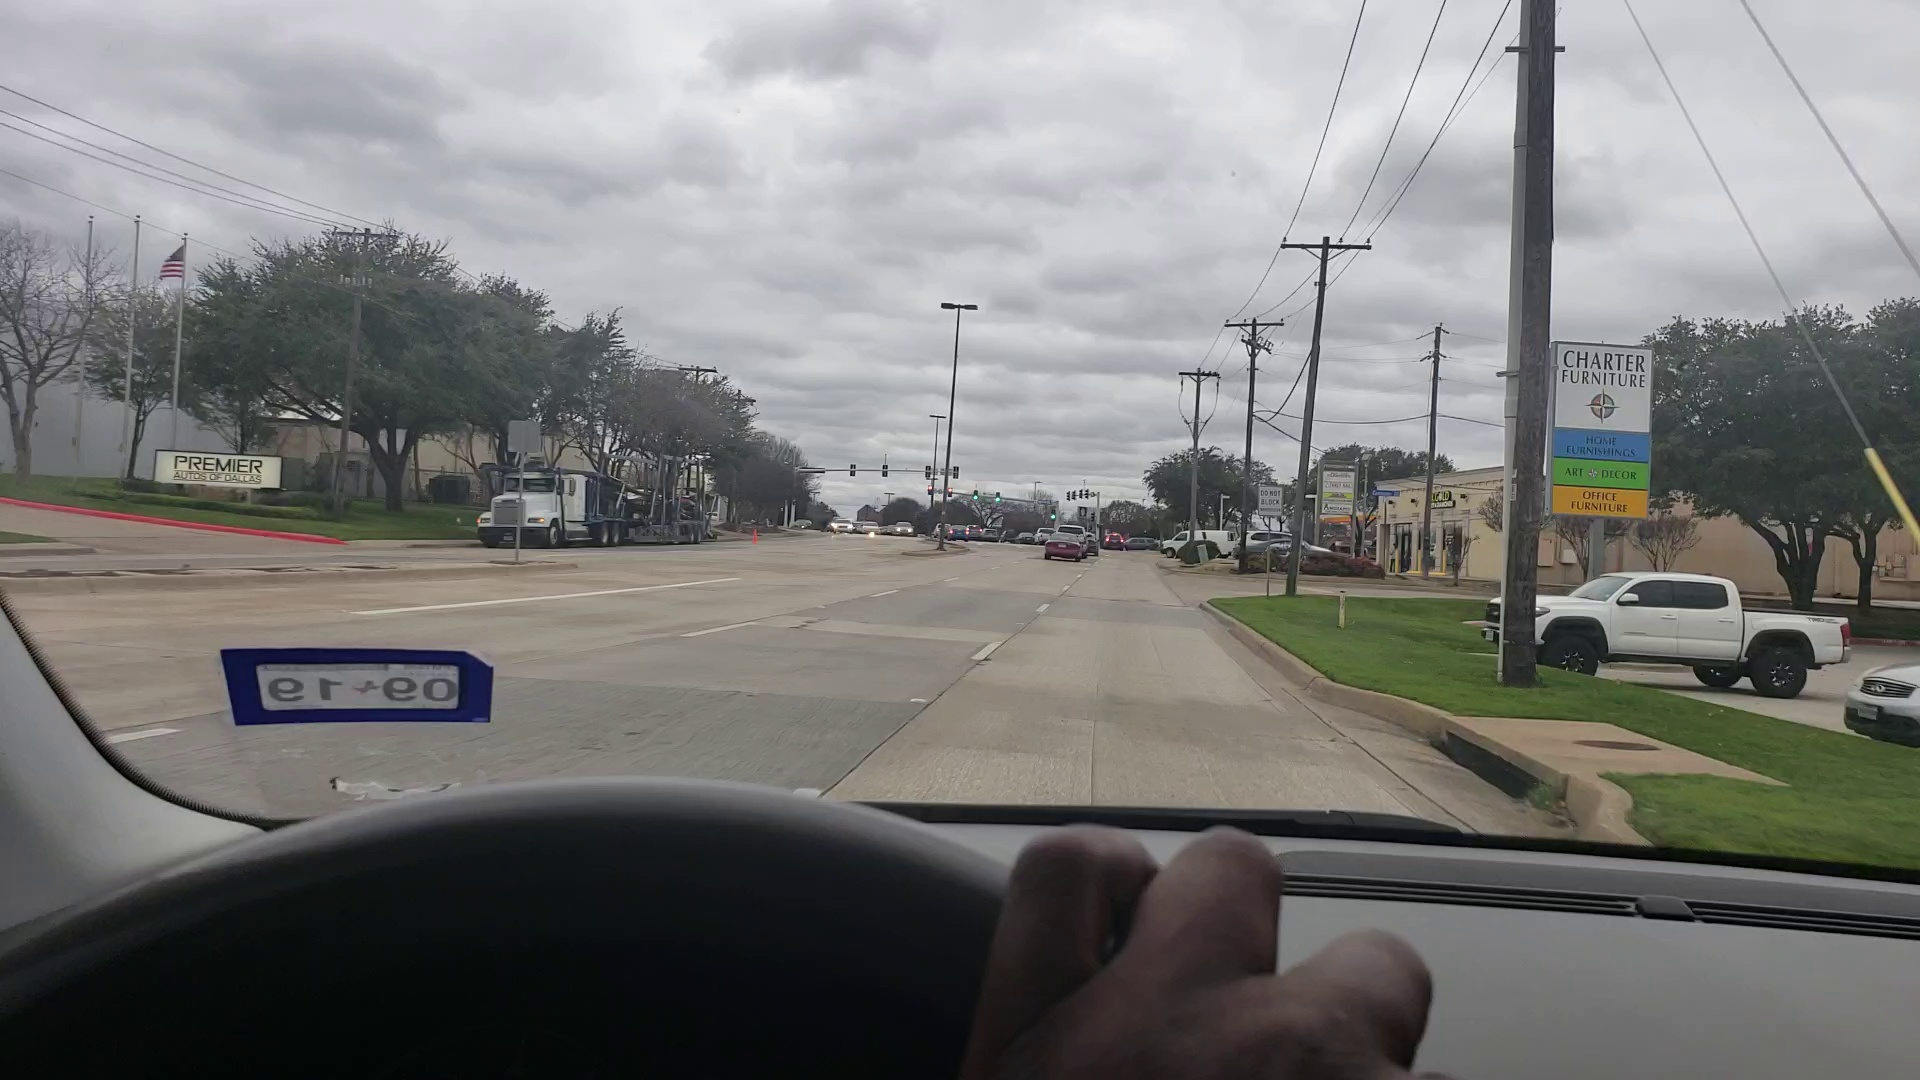car: (1847, 640, 1920, 737), (1236, 524, 1303, 566), (1058, 522, 1091, 556), (1040, 534, 1087, 558), (1121, 535, 1158, 551), (1083, 529, 1101, 555), (891, 520, 916, 537), (829, 520, 856, 533), (945, 524, 965, 541), (1033, 529, 1054, 545), (1102, 534, 1125, 549), (858, 520, 881, 534), (1001, 527, 1019, 545), (1017, 533, 1036, 549), (978, 527, 1002, 541), (790, 518, 816, 529), (964, 525, 982, 539)
traffic light: (994, 491, 1002, 502), (924, 484, 932, 495), (971, 487, 976, 501), (1077, 488, 1083, 500), (1051, 509, 1056, 521), (945, 487, 951, 497), (1072, 491, 1076, 500), (1065, 492, 1069, 501), (1084, 489, 1088, 497)
truck: (1481, 570, 1855, 694), (481, 450, 725, 555), (1160, 527, 1237, 560)
